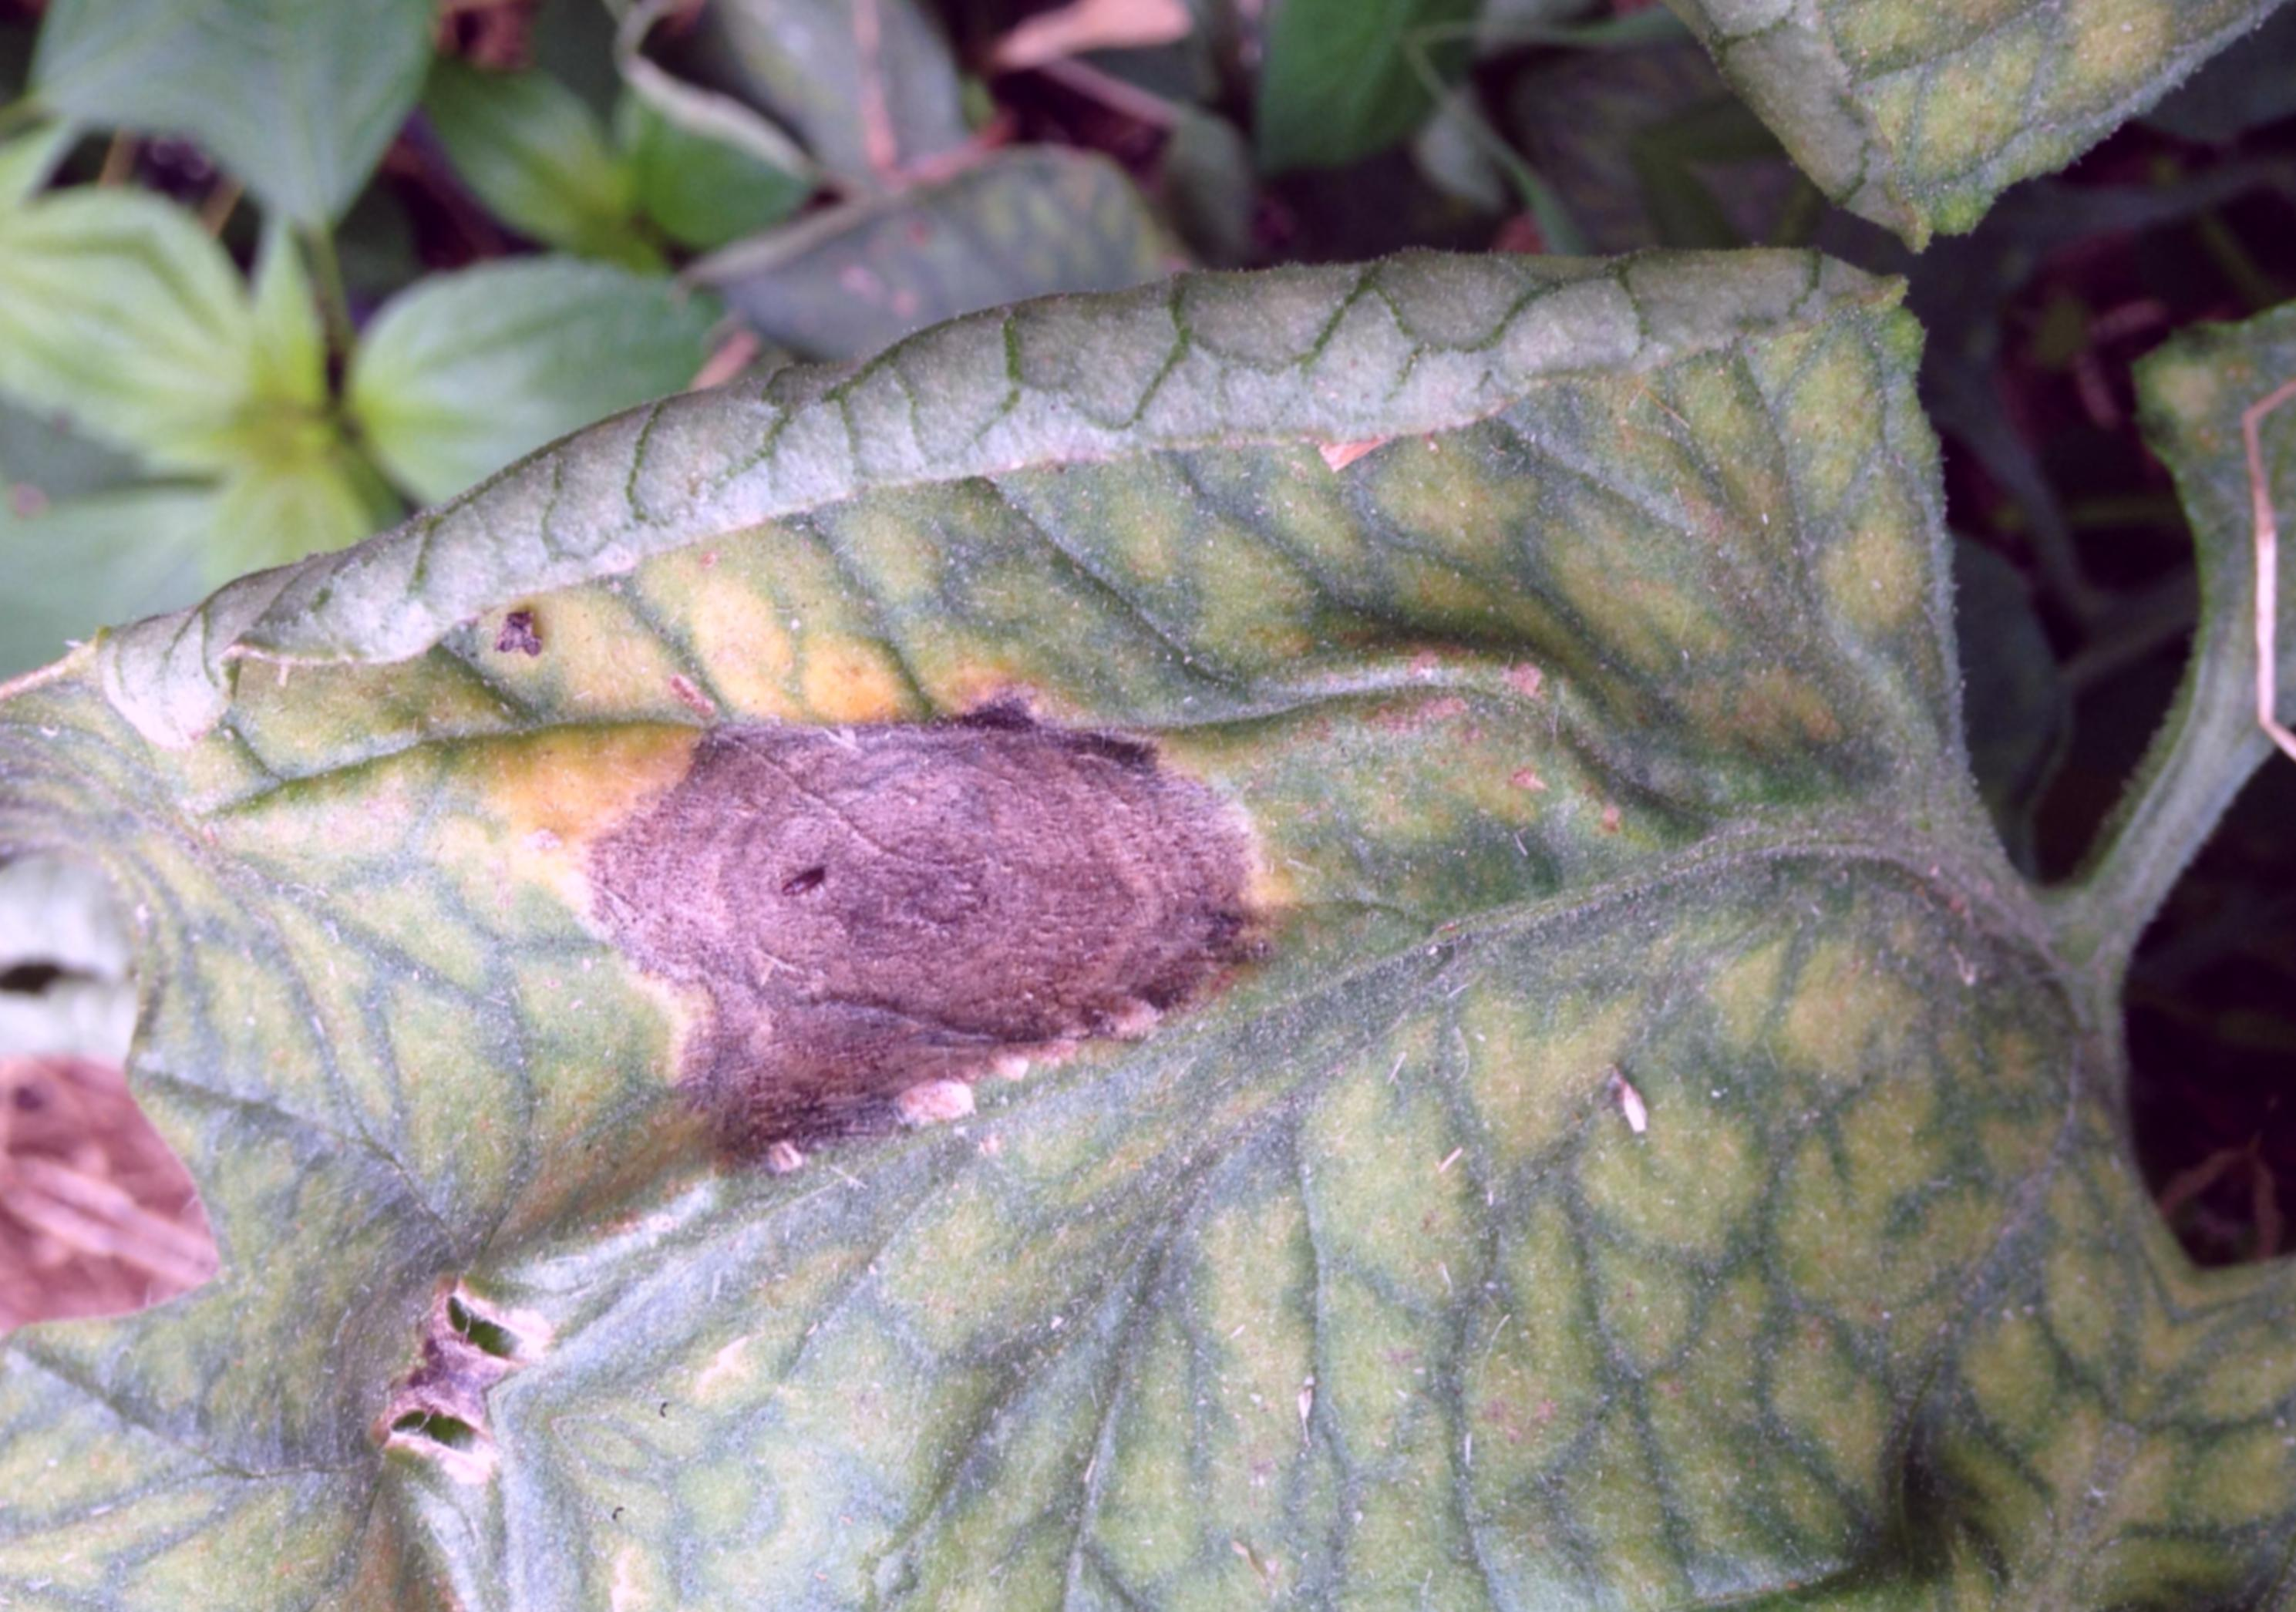Tomato Early blight leaf: (321, 469, 1541, 1586)
